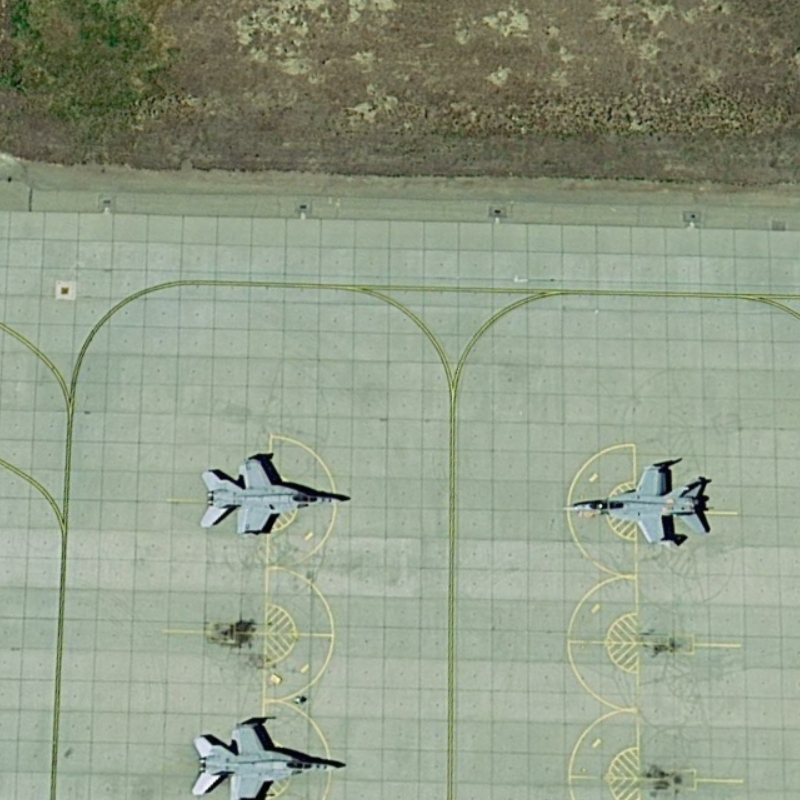A16: (550, 452, 713, 551), (193, 448, 355, 545), (184, 715, 353, 800)
